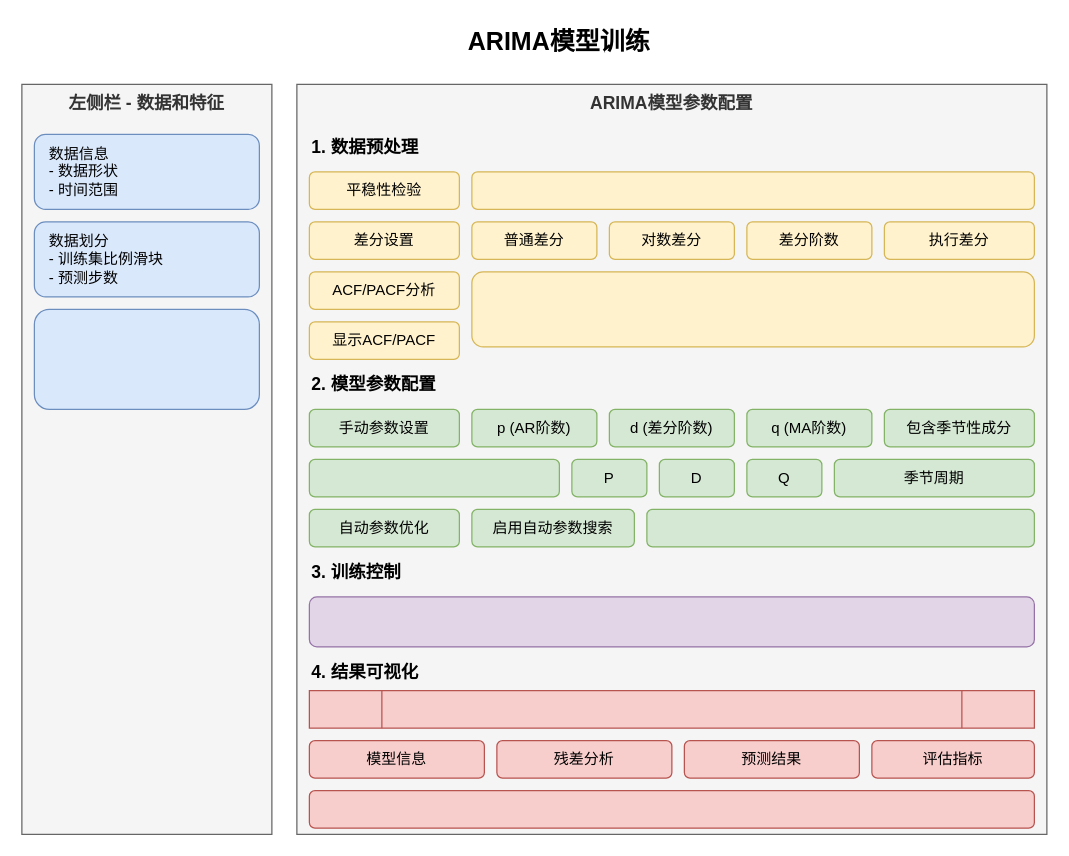
The diagram is 1069 pixels wide and 856 high, and some of its shapes have lost their labels. Each missing label, with the centre of its shape:
季节性参数 (当启用季节性时显示): [433,477]
差分结果图表: [752,309]
平稳性检验结果展示: [752,190]
开始训练: [671,621]
搜索范围设置: [840,527]
模型信息 - 训练状态 - 模型保存选项 - 模型评估简报: [146,358]
结果内容展示区域: [671,808]
结果标签页: [671,708]
